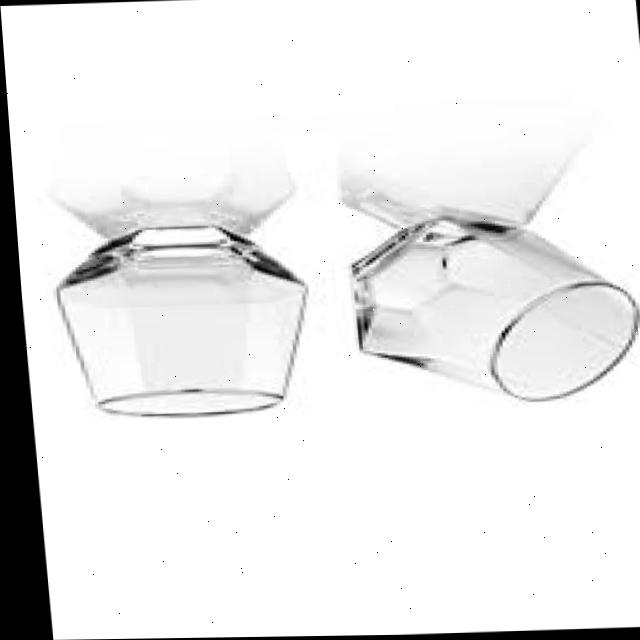Dry: (339, 212, 640, 410), (45, 223, 310, 424)
